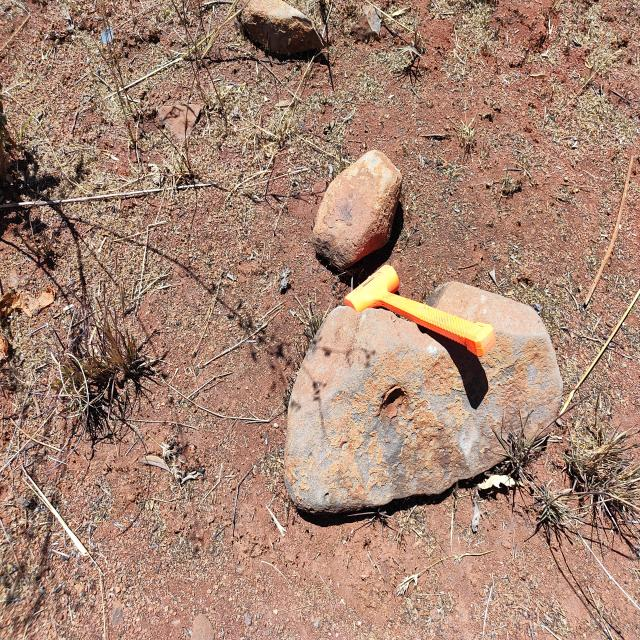Orange_hammer: (343, 263, 495, 358)
